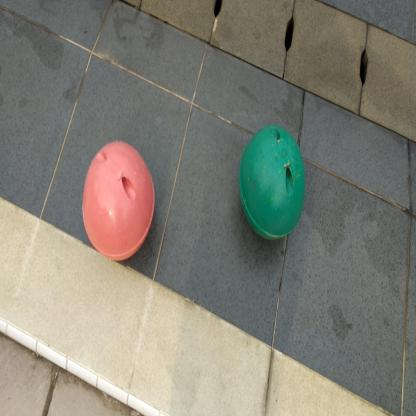green_buoy: (234, 123, 309, 249)
red_buoy: (79, 135, 164, 269)
